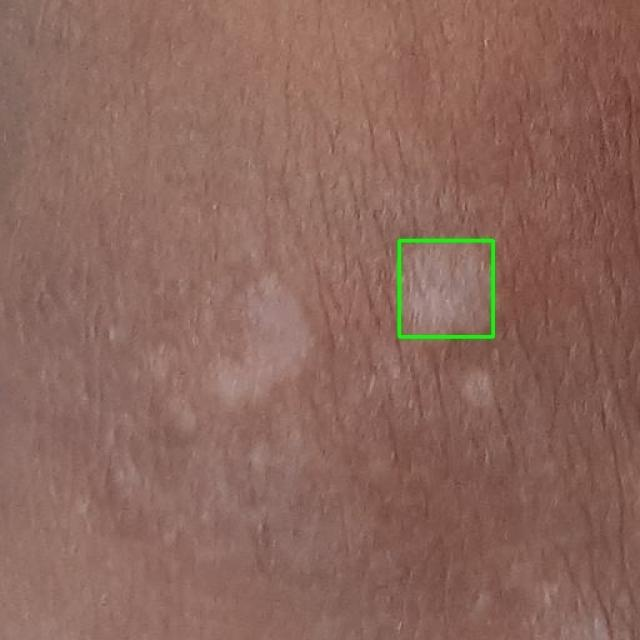Eczema: (399, 240, 492, 336)
